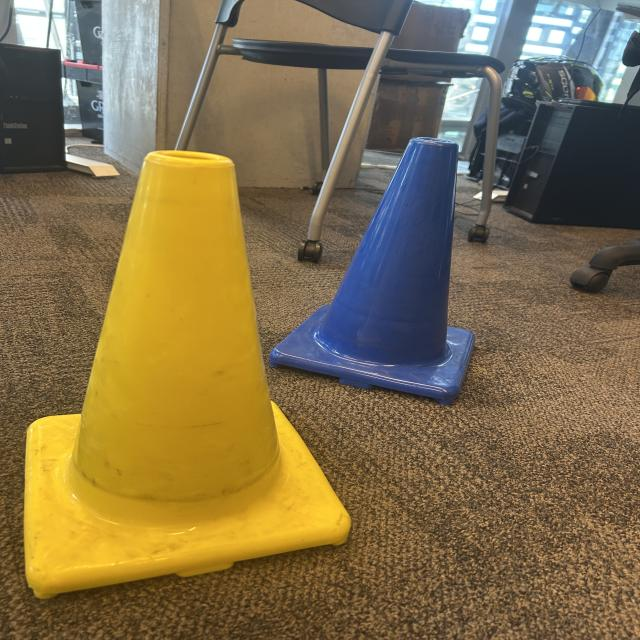blue_cone: (271, 138, 475, 401)
yellow_cone: (24, 149, 350, 590)
